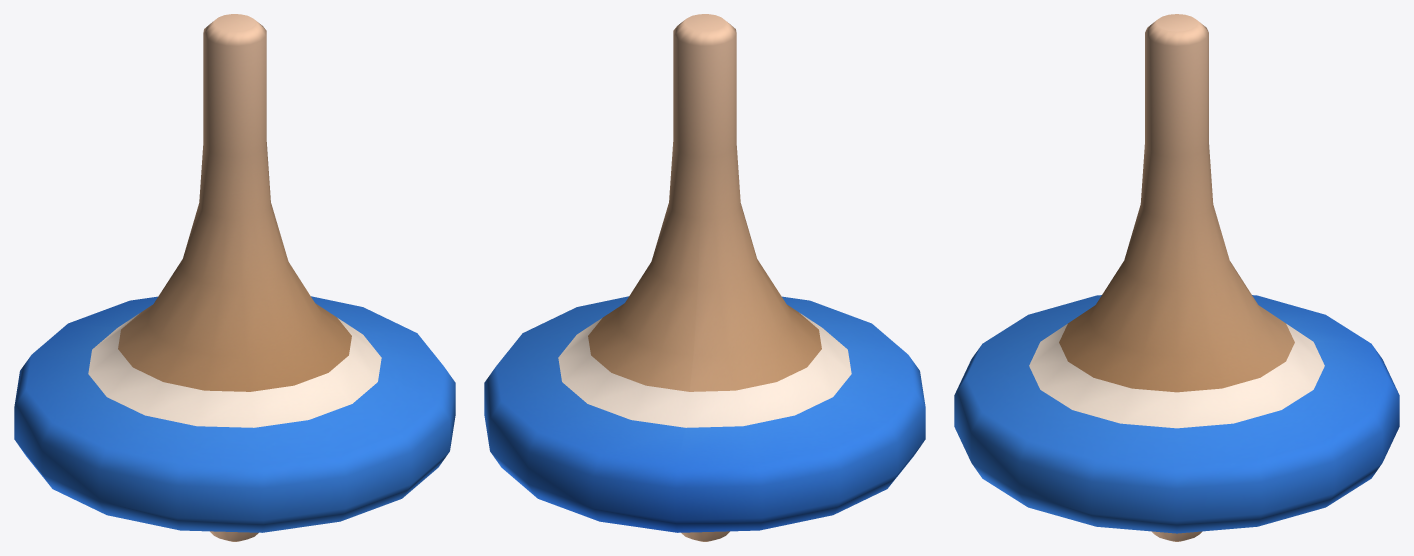
File: SpinningTop_wooden.fbx
3 views of the same model, side by side, from view 1: azimuth 30°, elevation 25°; view 2: azimuth 150°, elevation 25°; view 3: azimuth 270°, elevation 25° (orthographic).
Parts seen in each view (by area): view 1: SpinningTop_wooden; view 2: SpinningTop_wooden; view 3: SpinningTop_wooden.
Part boxes in pixels (x1,y1,x2,y2): SpinningTop_wooden: [14, 14, 455, 541]; SpinningTop_wooden: [484, 14, 925, 541]; SpinningTop_wooden: [954, 14, 1399, 541].
Size of the model in its own units: 80.96 by 104 by 80.96.
